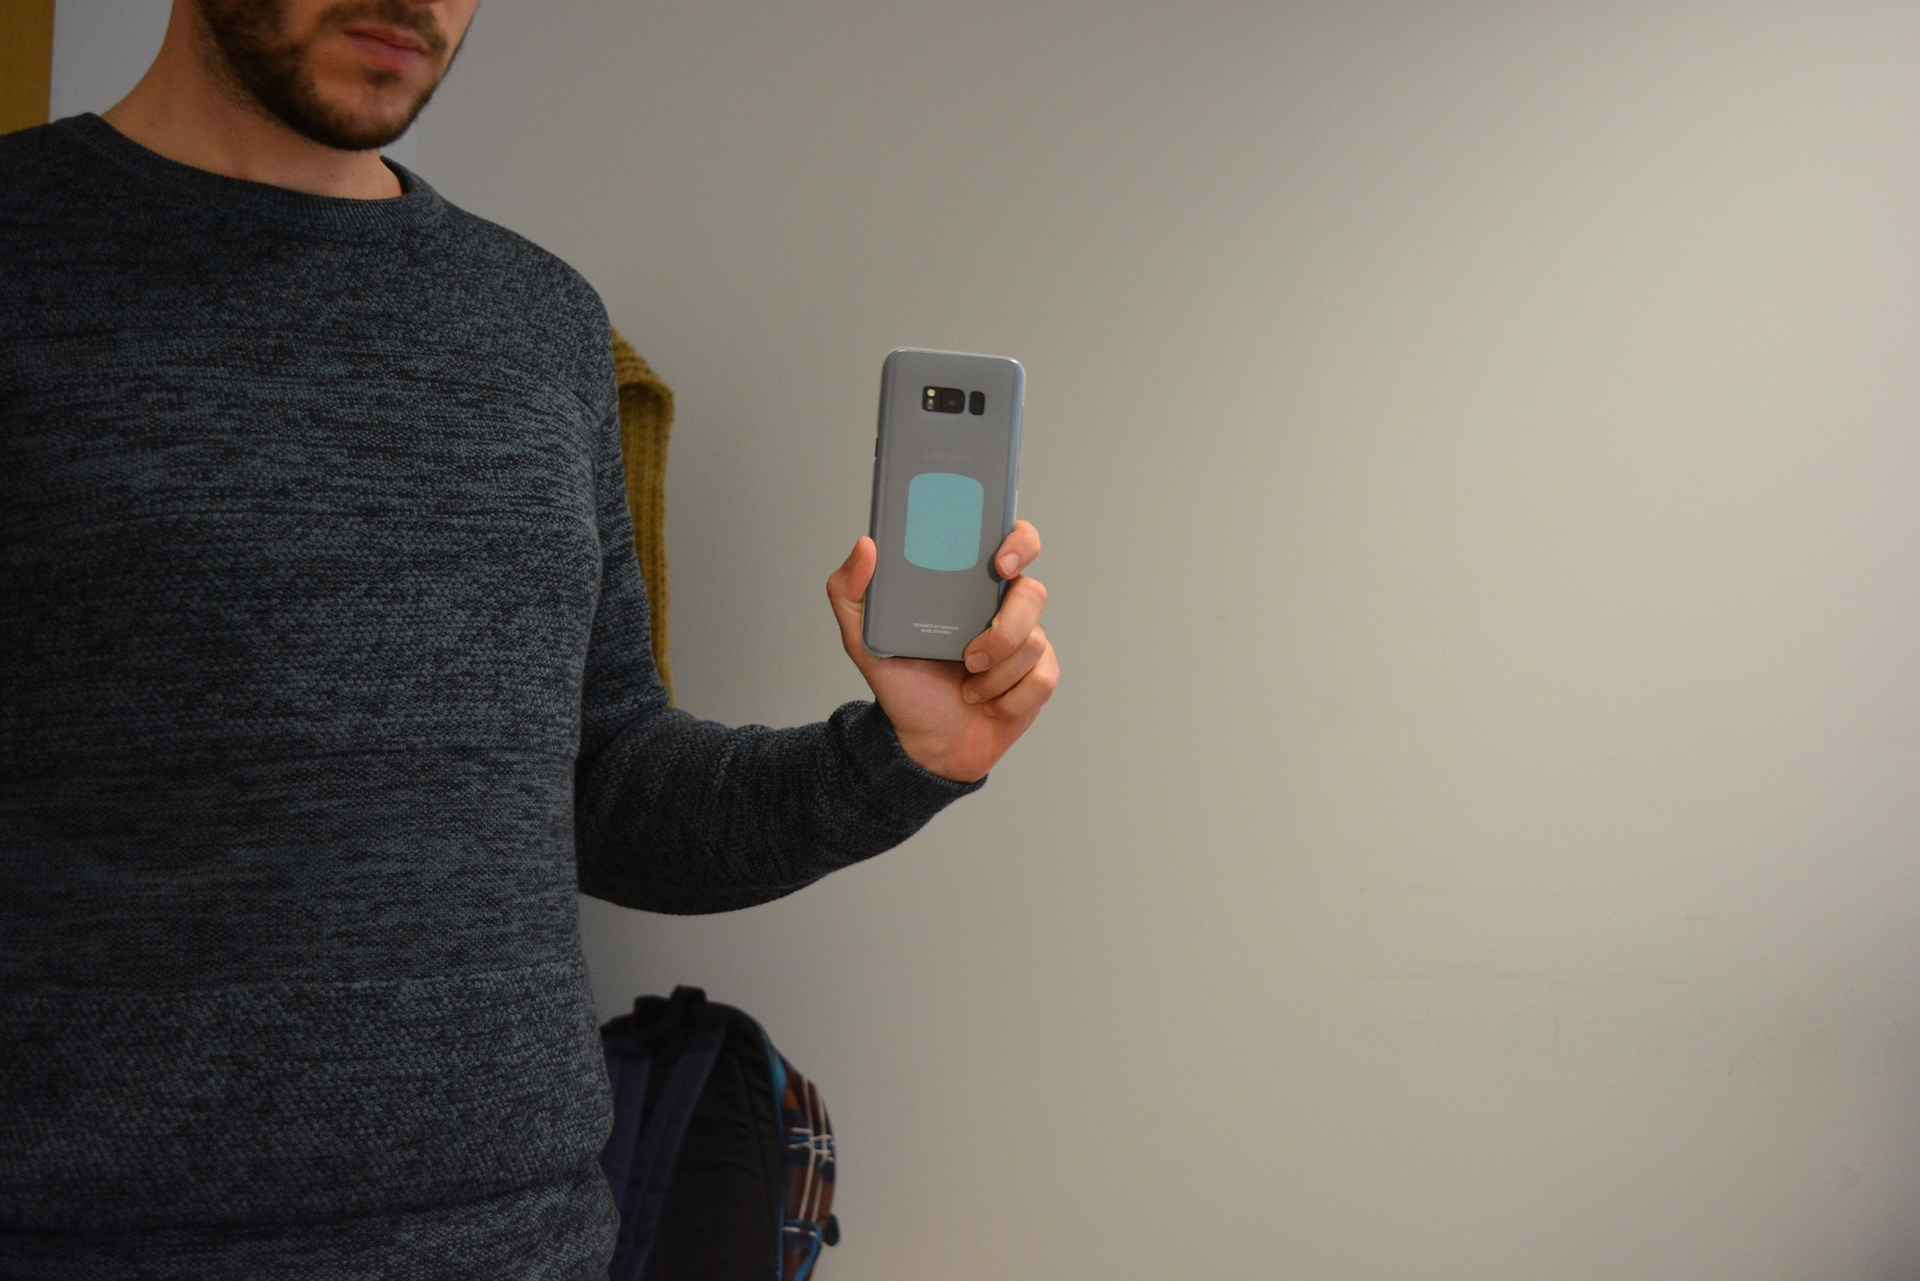smartphone: (861, 346, 1029, 666)
